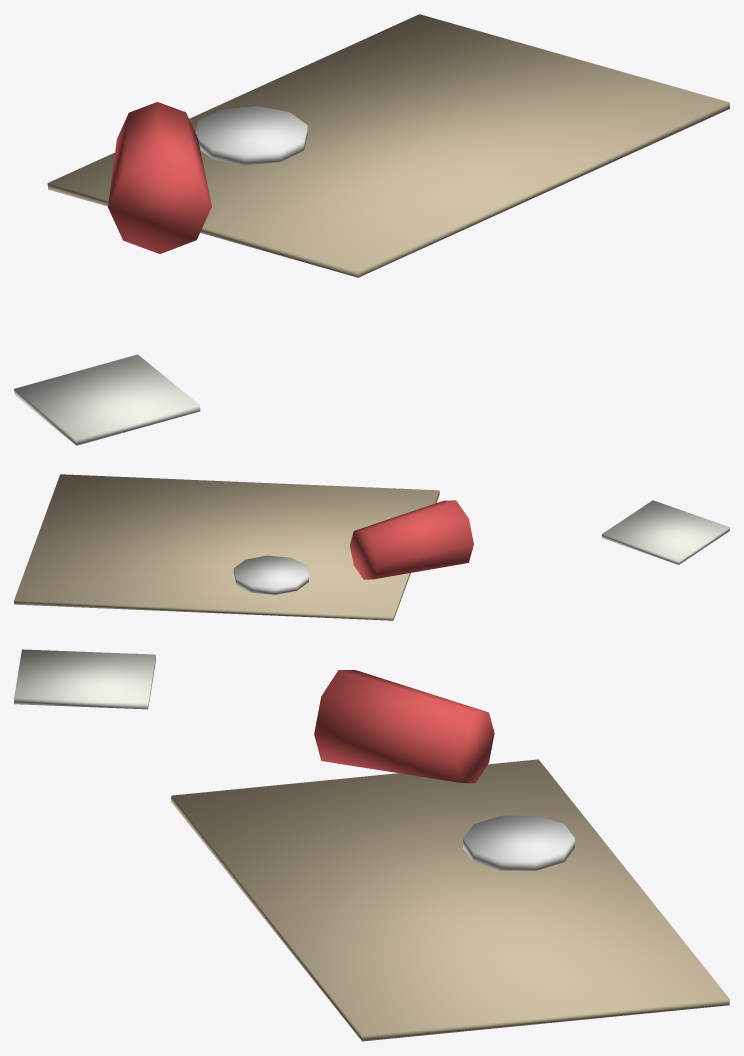
File: com_drink.glb
3 views of the same model, one above another, from view 1: azimuth 30°, elevation 25°; view 2: azimuth 150°, elevation 25°; view 3: azimuth 270°, elevation 25° (orthographic). The views are drawn at different scales.
Parts seen in each view (by area): view 1: com_drink; view 2: com_drink; view 3: com_drink.
Part boxes in pixels (x1,y1,x2,y2): com_drink: (14,14,729,445); com_drink: (14,474,729,620); com_drink: (14,649,729,1041).
Bounding box in the file's own units: 0.8278 × 0.1157 × 0.6395.
